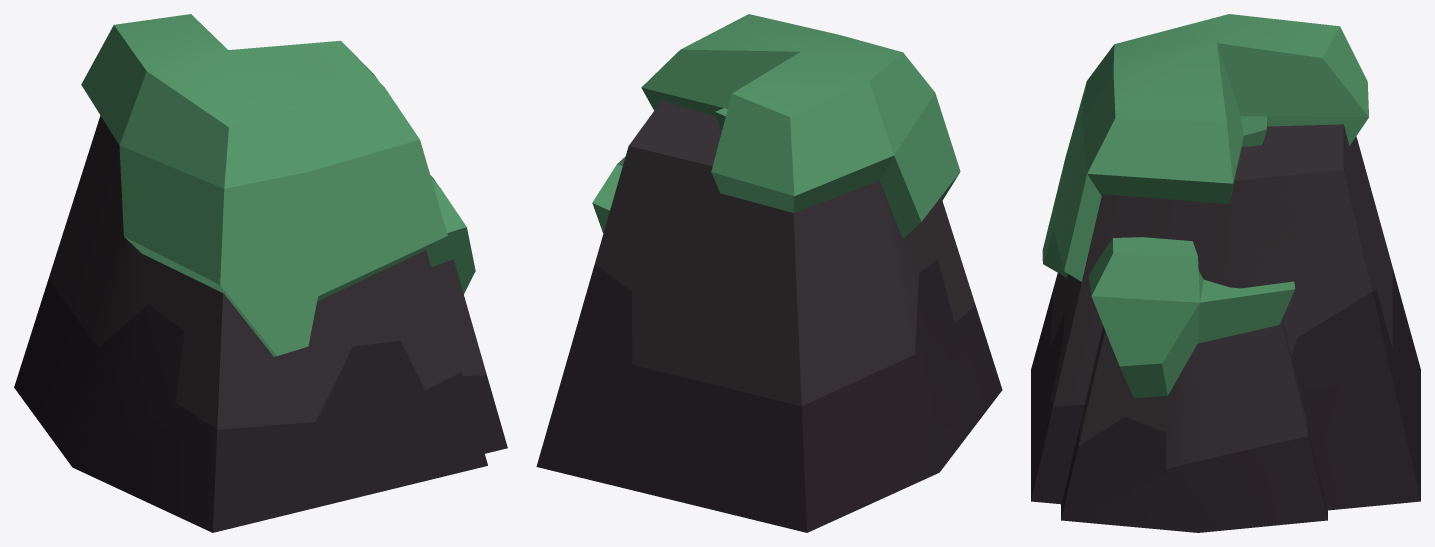
File: стена.fbx
The picture shows the model from 3 angles, left to right: view 1: azimuth 30°, elevation 25°; view 2: azimuth 150°, elevation 25°; view 3: azimuth 270°, elevation 25°; orthographic projection.
Parts seen in each view (by area): view 1: ambientLight4; view 2: ambientLight4; view 3: ambientLight4.
Boxes of the visible parts, <box> form: ambientLight4: <box>14,14,507,532</box>; ambientLight4: <box>536,14,1002,532</box>; ambientLight4: <box>1031,14,1420,532</box>.
Bounding box in the file's own units: 2.22 × 2.2 × 2.04.
